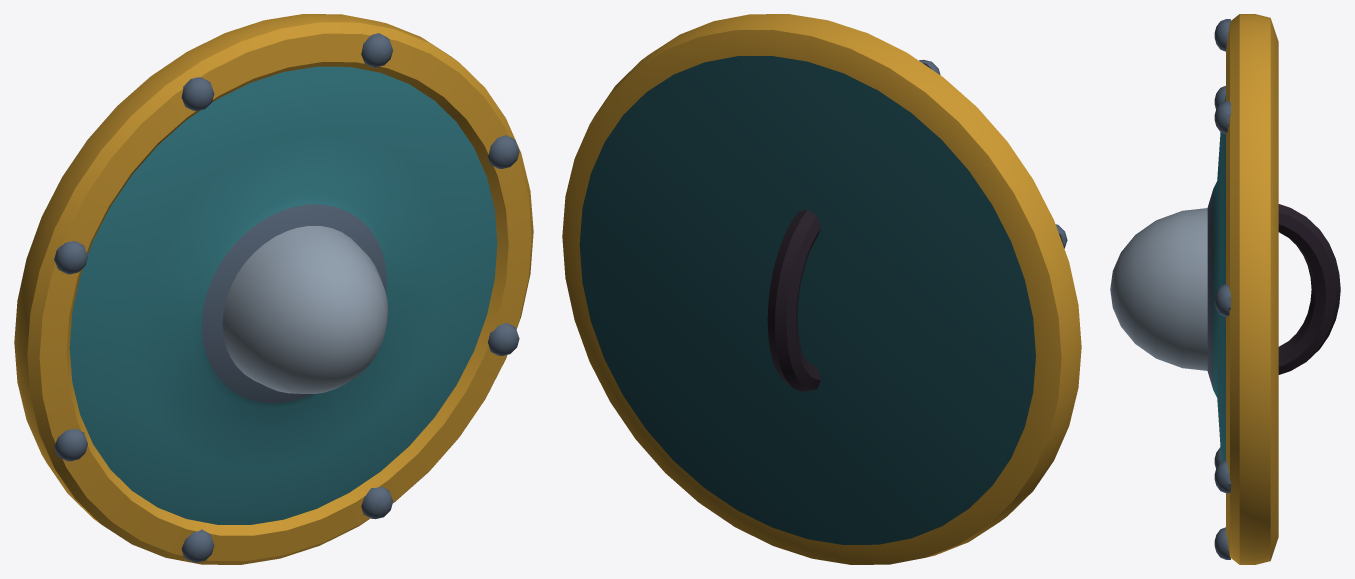
Rendered from RoundShield_07.glb.
3 renders of one model, left to right at view 1: azimuth 30°, elevation 25°; view 2: azimuth 150°, elevation 25°; view 3: azimuth 270°, elevation 25°, orthographic. The views are drawn at different scales.
Visible parts, largest first — view 1: RoundShield_07; view 2: RoundShield_07; view 3: RoundShield_07.
Part boxes in pixels (left/top/right/bottom): RoundShield_07: left=14, top=14, right=533, bottom=564; RoundShield_07: left=562, top=14, right=1081, bottom=564; RoundShield_07: left=1110, top=14, right=1340, bottom=564.
Bounding box in the file's own units: 2.83 × 2.83 × 1.19.
